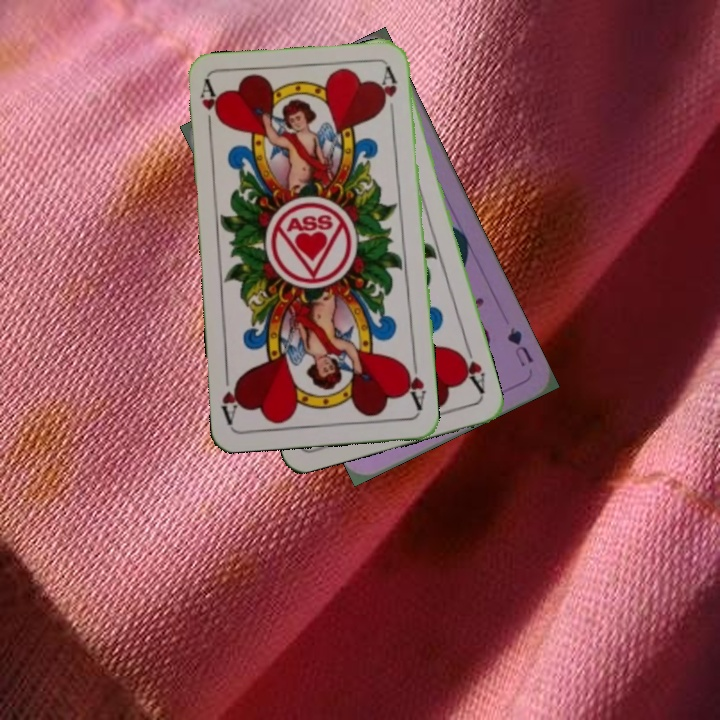GU: (503, 322, 536, 369)
HA: (454, 340, 488, 397), (400, 355, 429, 414), (196, 78, 225, 137)
